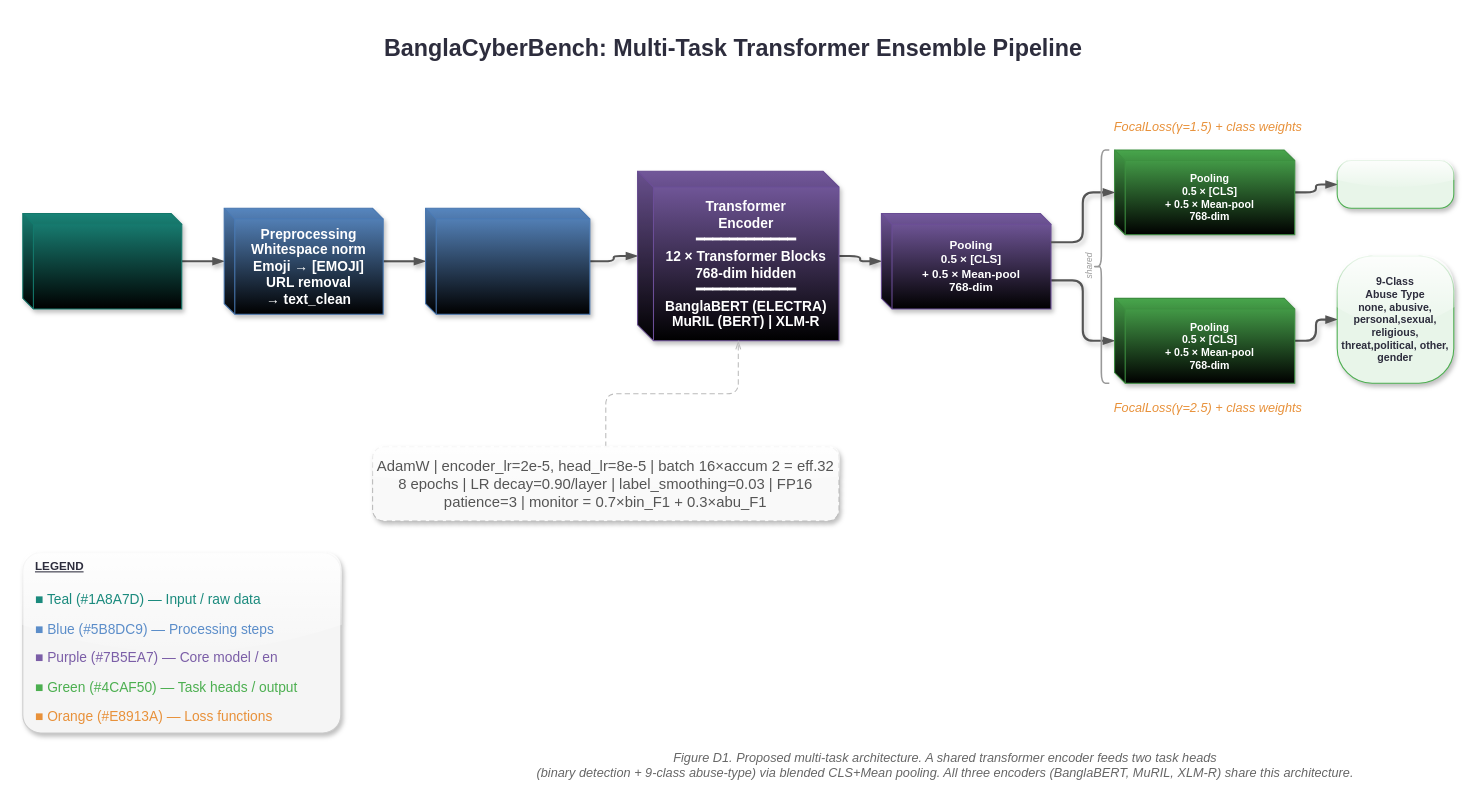
This 1479x811 diagram has some shape labels left out. Each missing label, with the centre of its shape:
Harmful / Not Harmful: the point at 1396,185
Input Bengali Comment (raw text — Bangla or Romanized): the point at 102,262
Tokenizer WordPiece / SentencePiece max_len = 128: the point at 508,262
